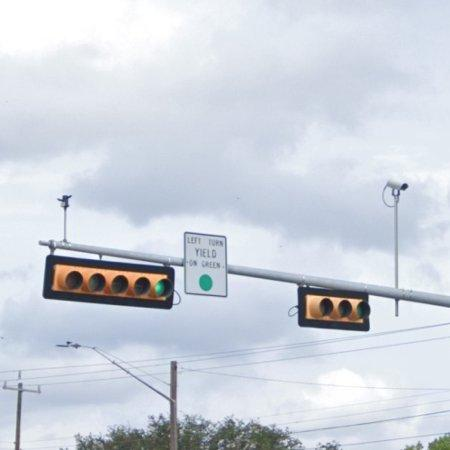traffic lights: (45, 255, 174, 310)
